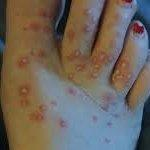Ants: (28, 47, 49, 63), (91, 51, 106, 64), (30, 109, 44, 121), (67, 86, 79, 98), (104, 93, 116, 105), (40, 25, 52, 36), (17, 56, 28, 67), (21, 20, 32, 31), (19, 85, 29, 97), (90, 67, 102, 77), (123, 72, 133, 82), (20, 98, 31, 107), (82, 23, 93, 32), (112, 70, 119, 84), (67, 28, 74, 42), (73, 49, 83, 58), (57, 119, 67, 127), (91, 113, 99, 123), (66, 71, 74, 80), (75, 63, 84, 71), (39, 101, 46, 111), (104, 137, 113, 144), (121, 59, 127, 69), (81, 8, 88, 16), (50, 100, 58, 107), (91, 16, 98, 23), (106, 120, 113, 127), (108, 55, 114, 63)
